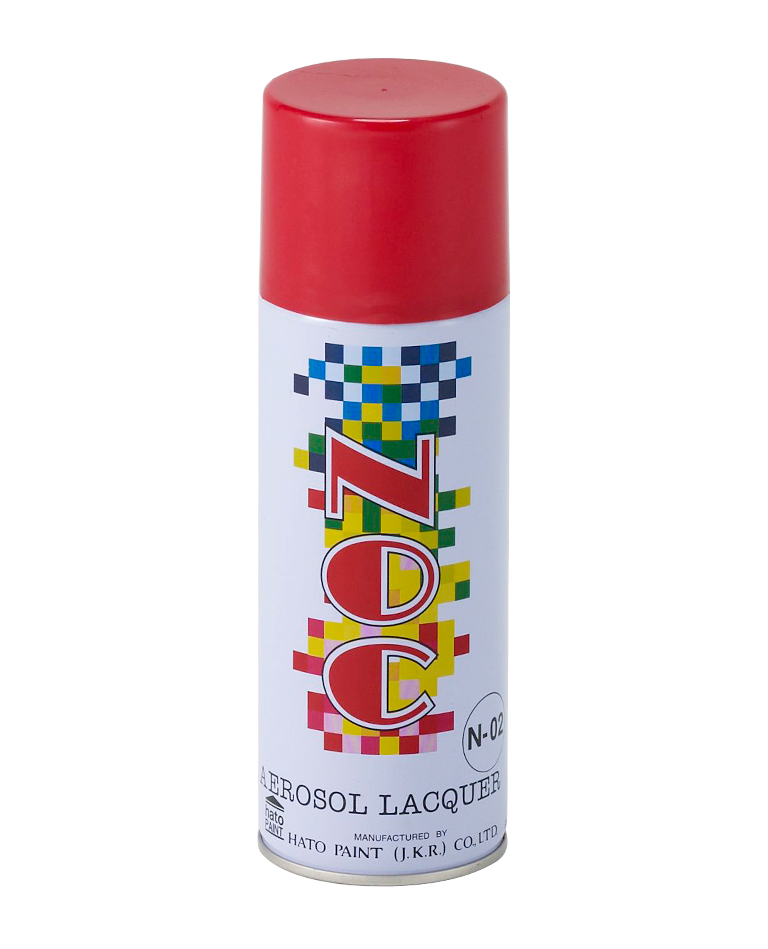Aerosol_cans: (256, 57, 514, 888)
